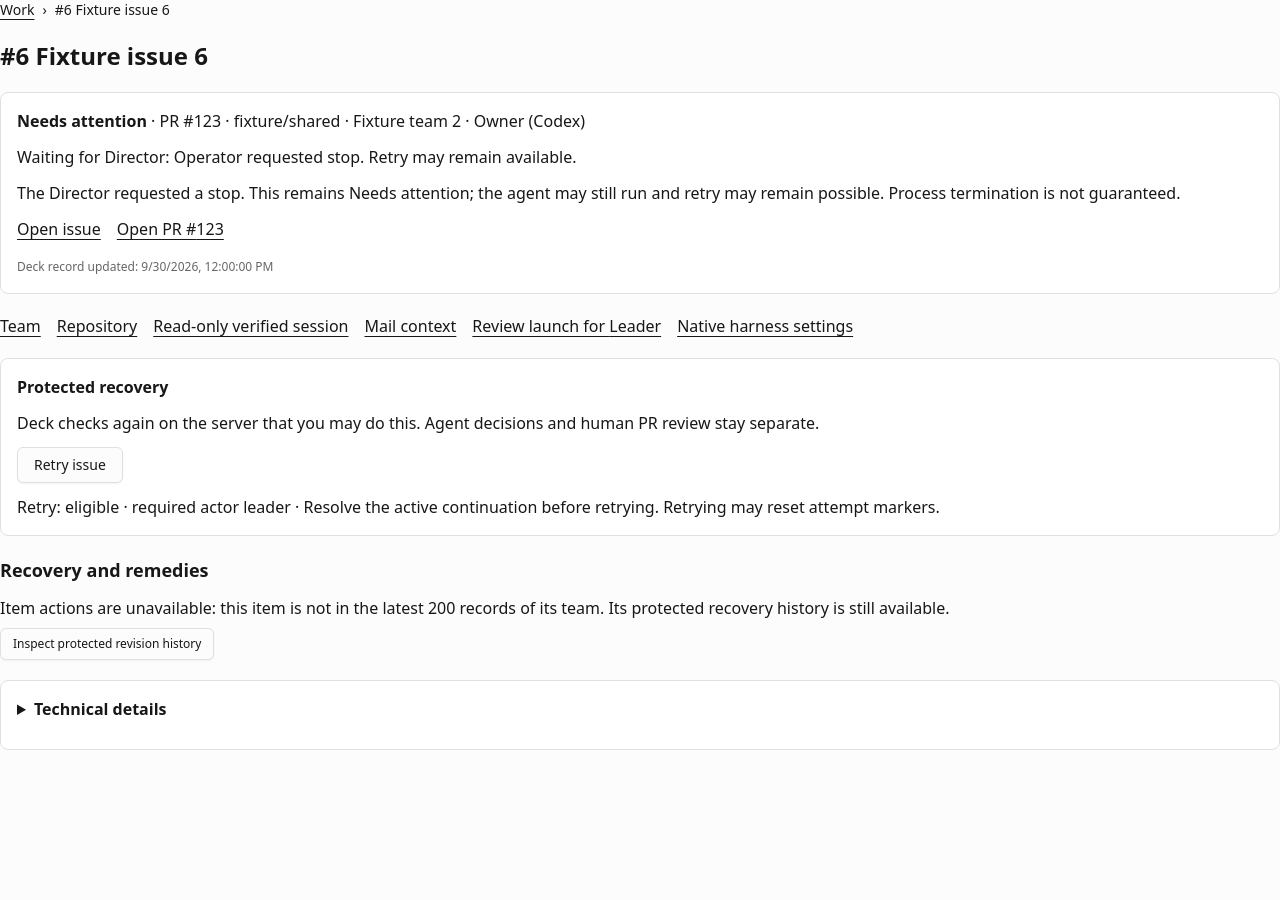
Test: work details and protected controls › uses the existing operator header, preserves denial and refreshes detail without browser agent approval
Click the button "Retry issue" at [70, 465], box x1=17 y1=447 x2=123 y2=483
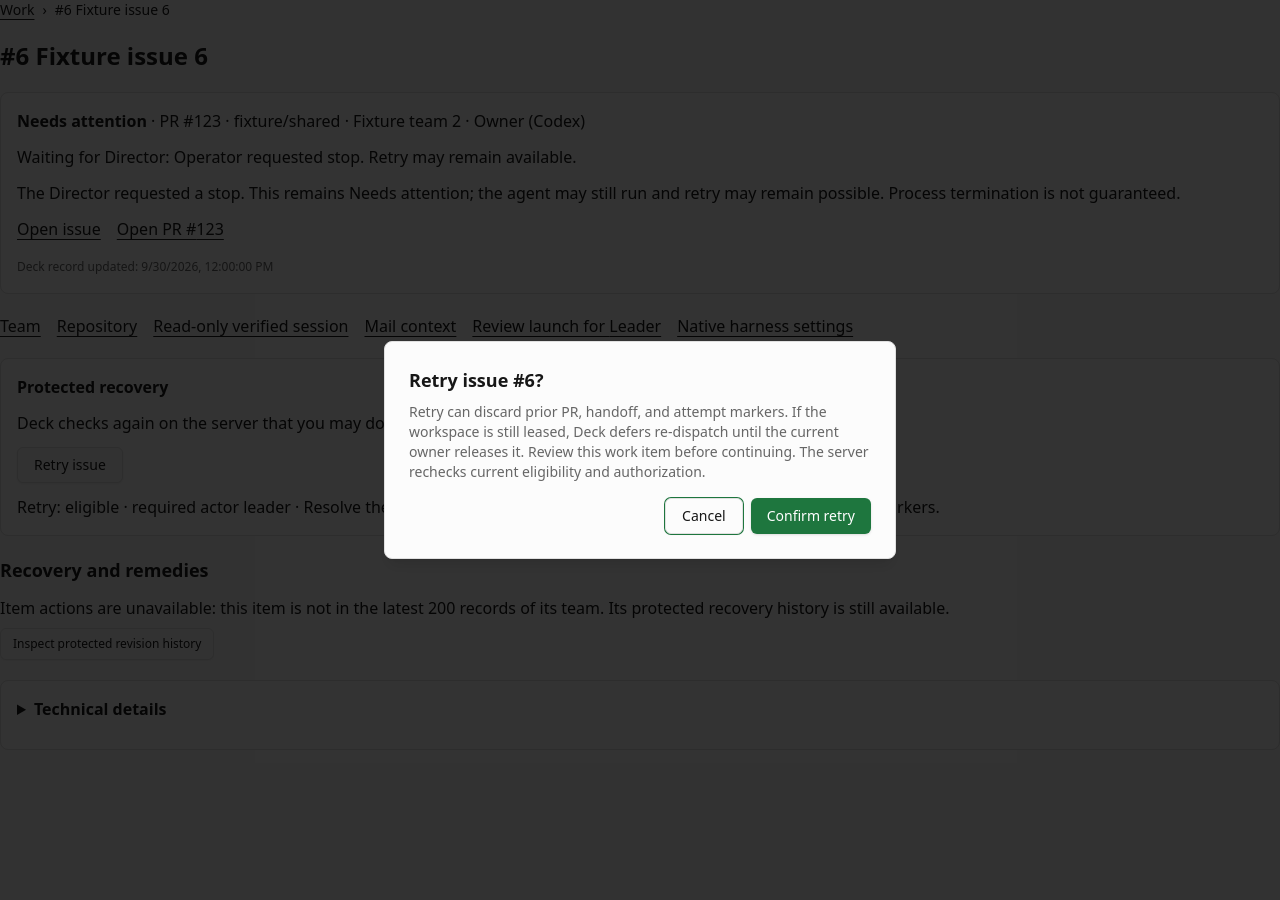
Click the button "Confirm retry" at [811, 516], box x1=751 y1=498 x2=871 y2=534
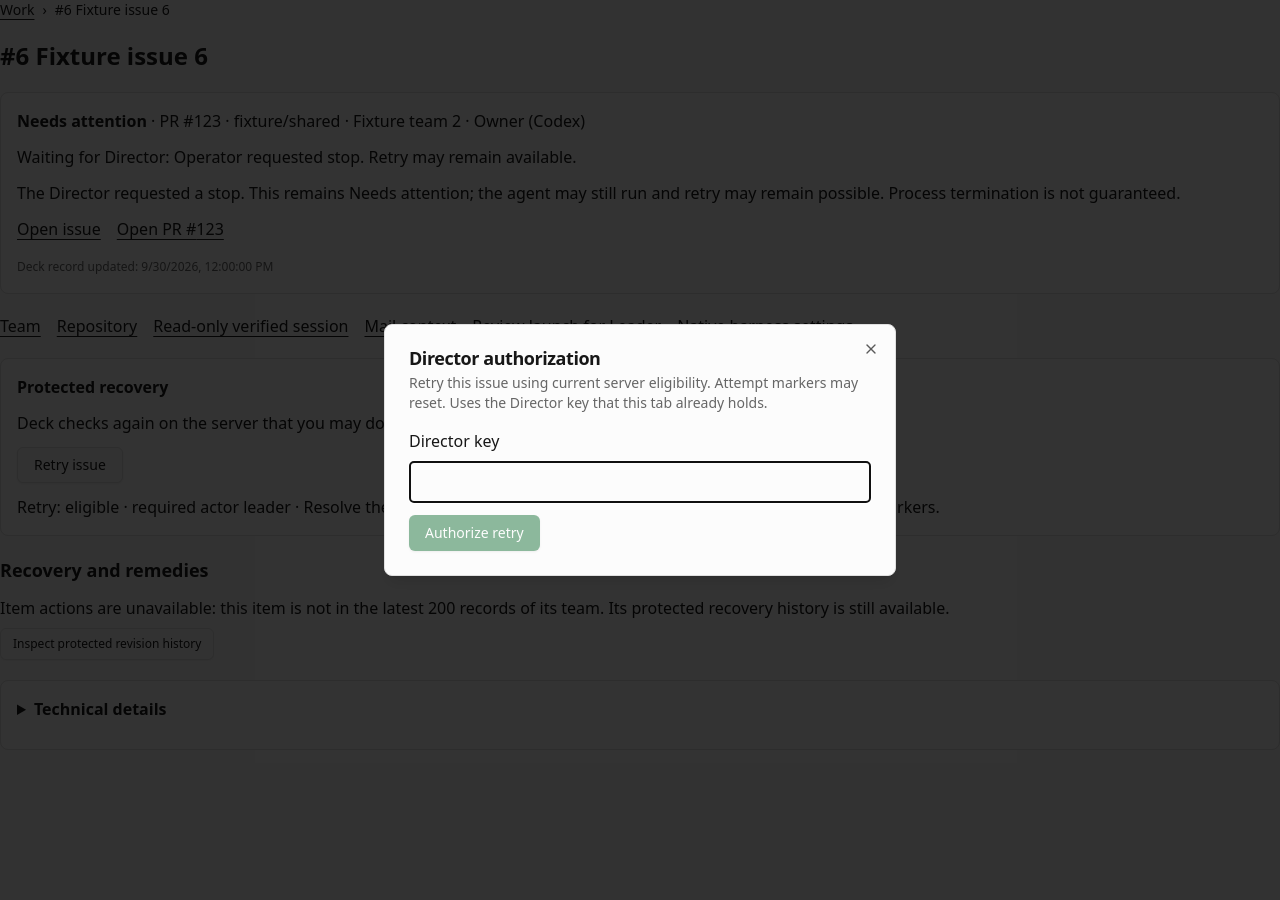
Type "test-operator" into the password field labelled "Director key" at [640, 482], box x1=409 y1=461 x2=871 y2=503
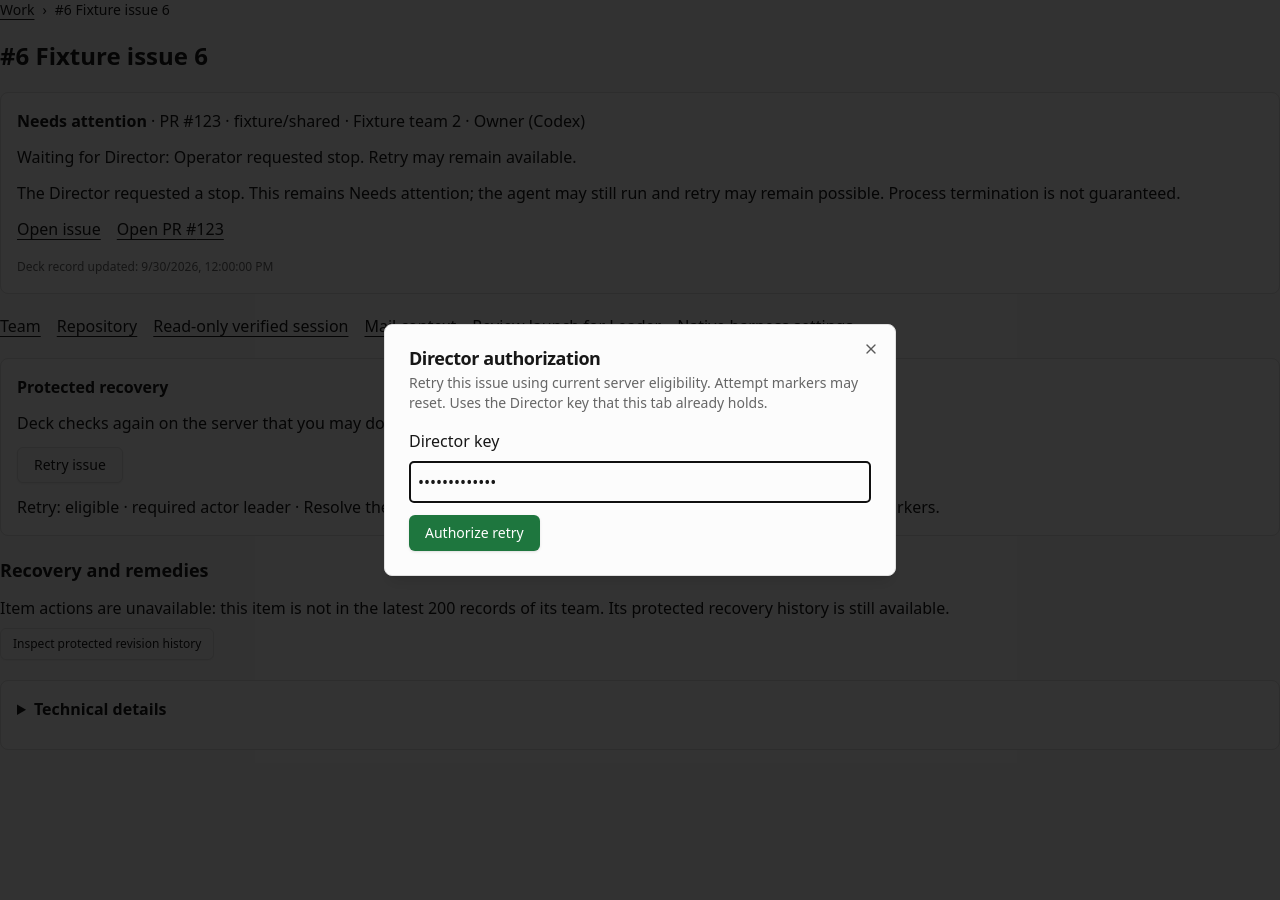
Submit the form "Authorize retry", box x1=409 y1=429 x2=871 y2=551
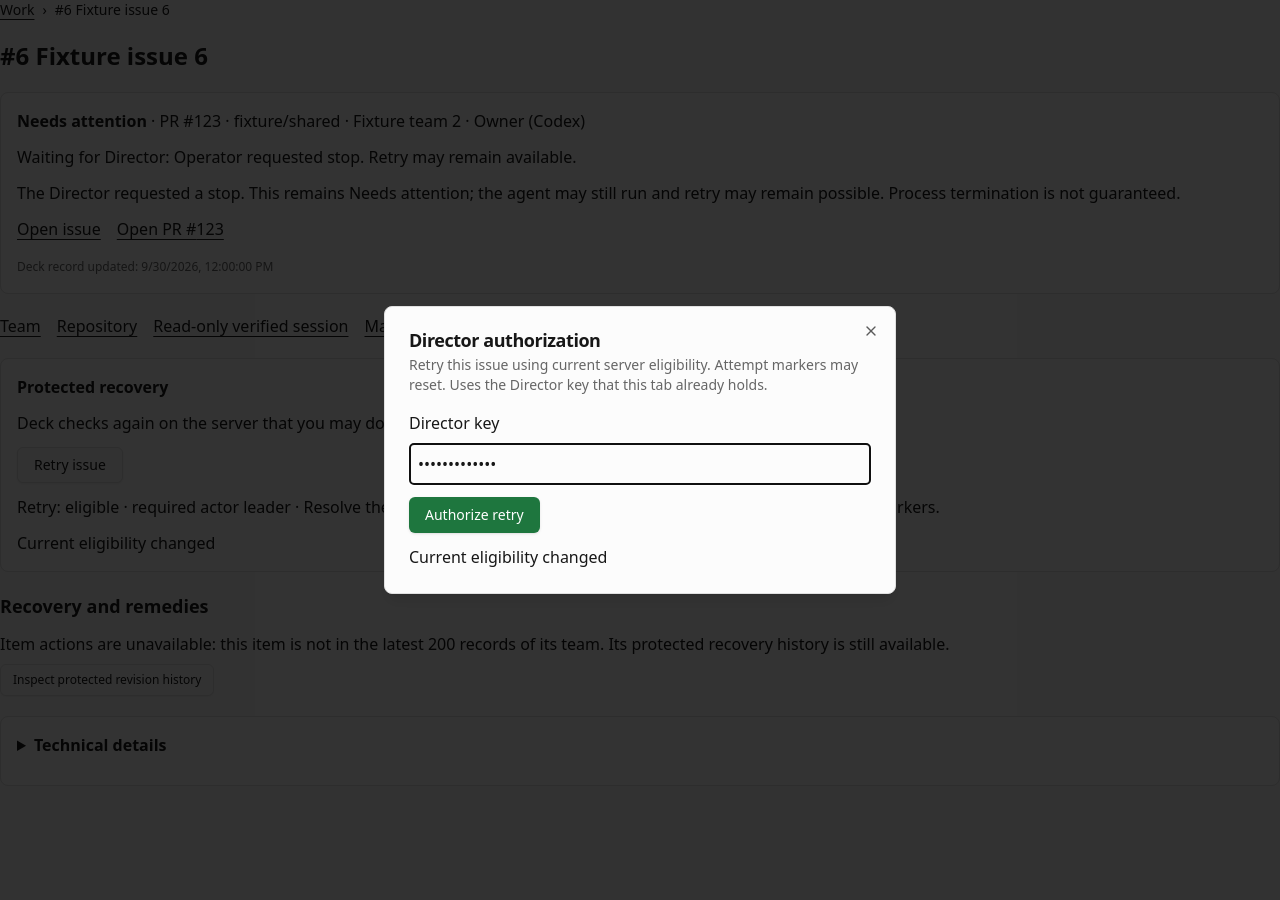
Result: the message reads "Current eligibility changed" at x1=409 y1=546 x2=608 y2=568
